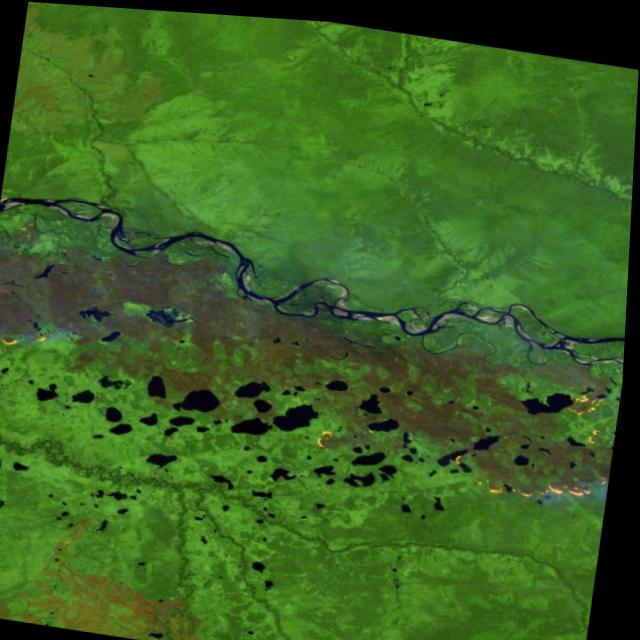fire: (447, 440, 615, 504), (561, 369, 617, 412), (0, 321, 61, 358), (311, 419, 346, 452), (586, 417, 610, 441)
